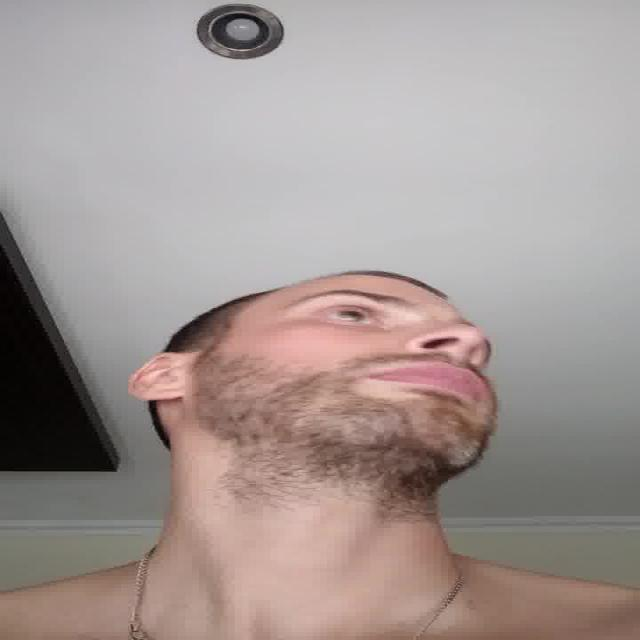earlobe: (127, 351, 184, 401)
